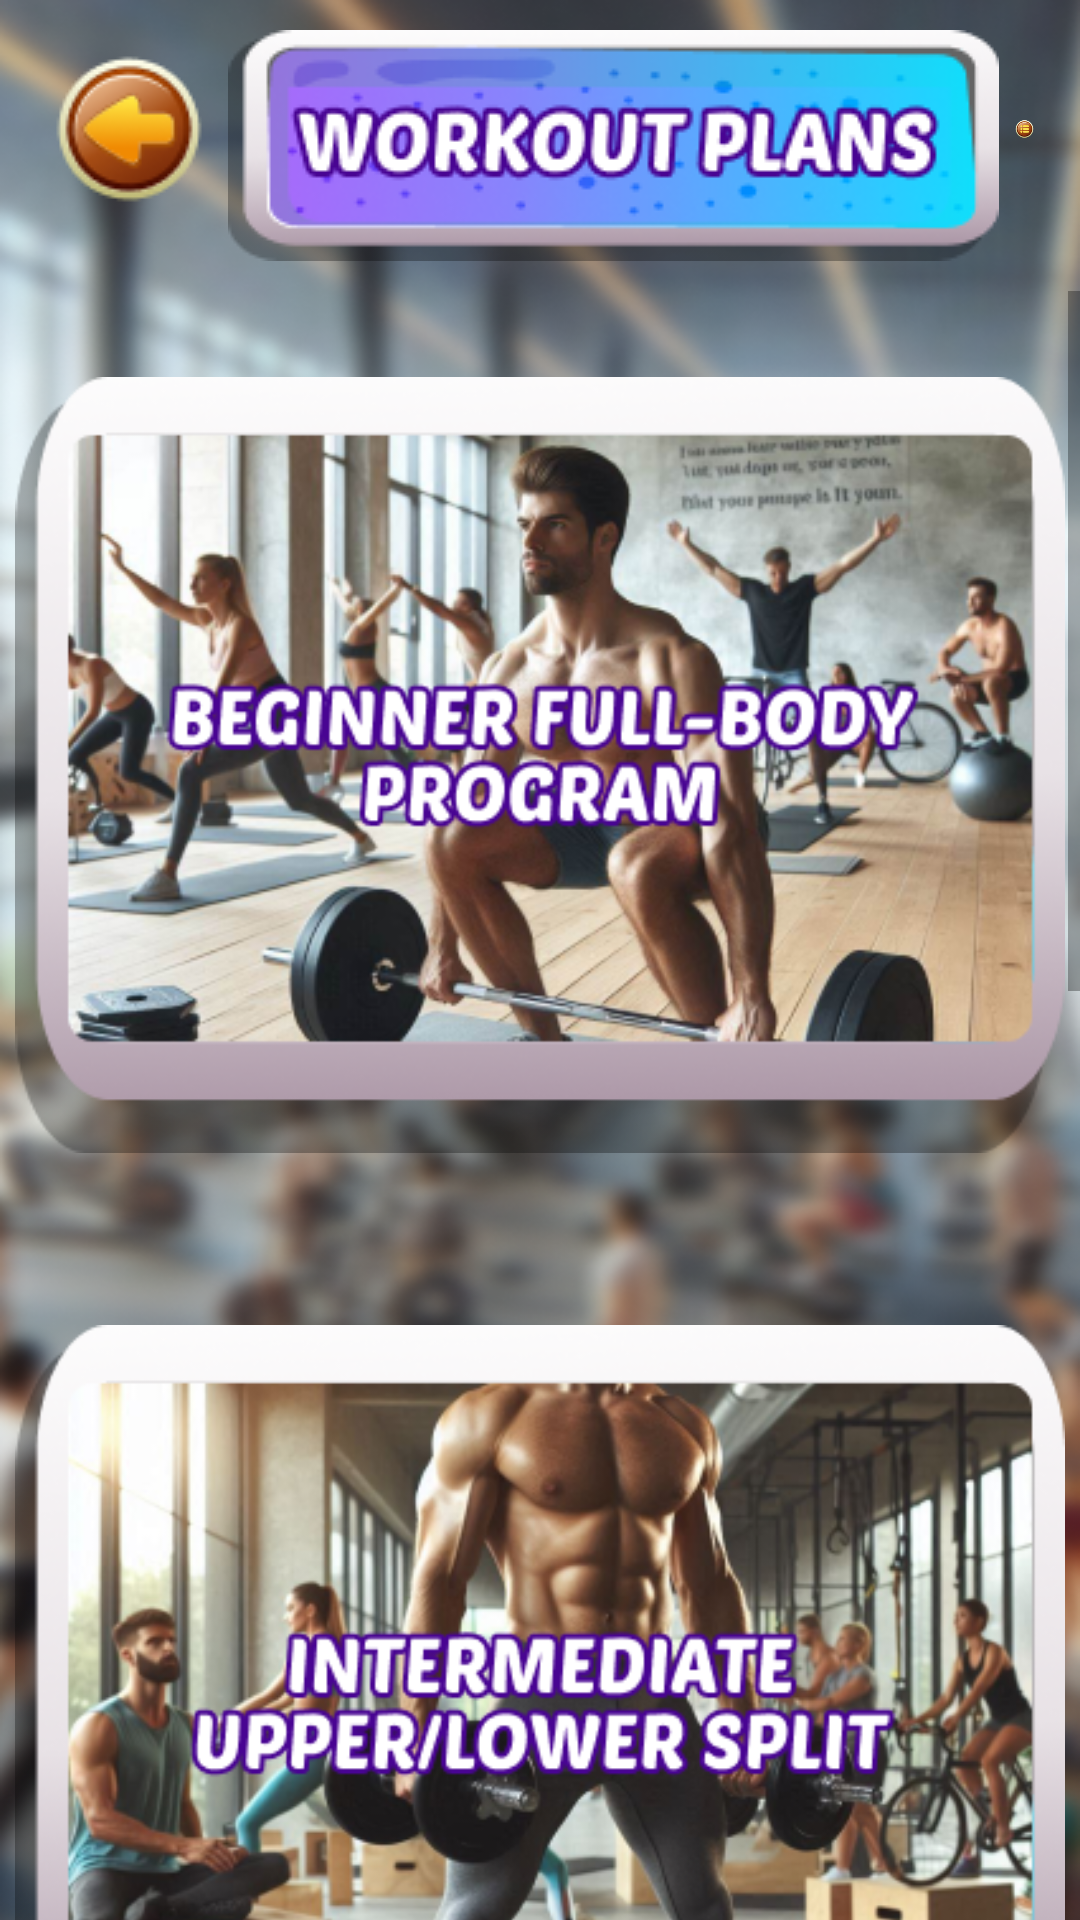

Named icons in this screenshot (1080 x 1920) and their centers, [x,y]:
backbtn: [129,129]
